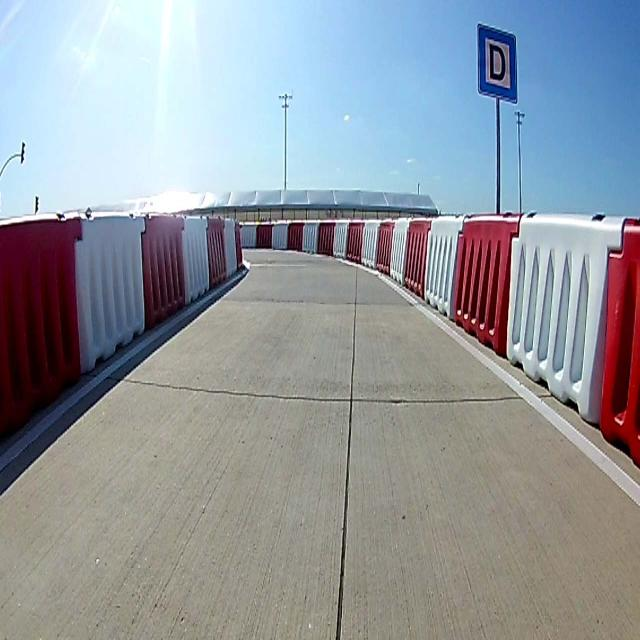durak: (478, 23, 516, 101)
